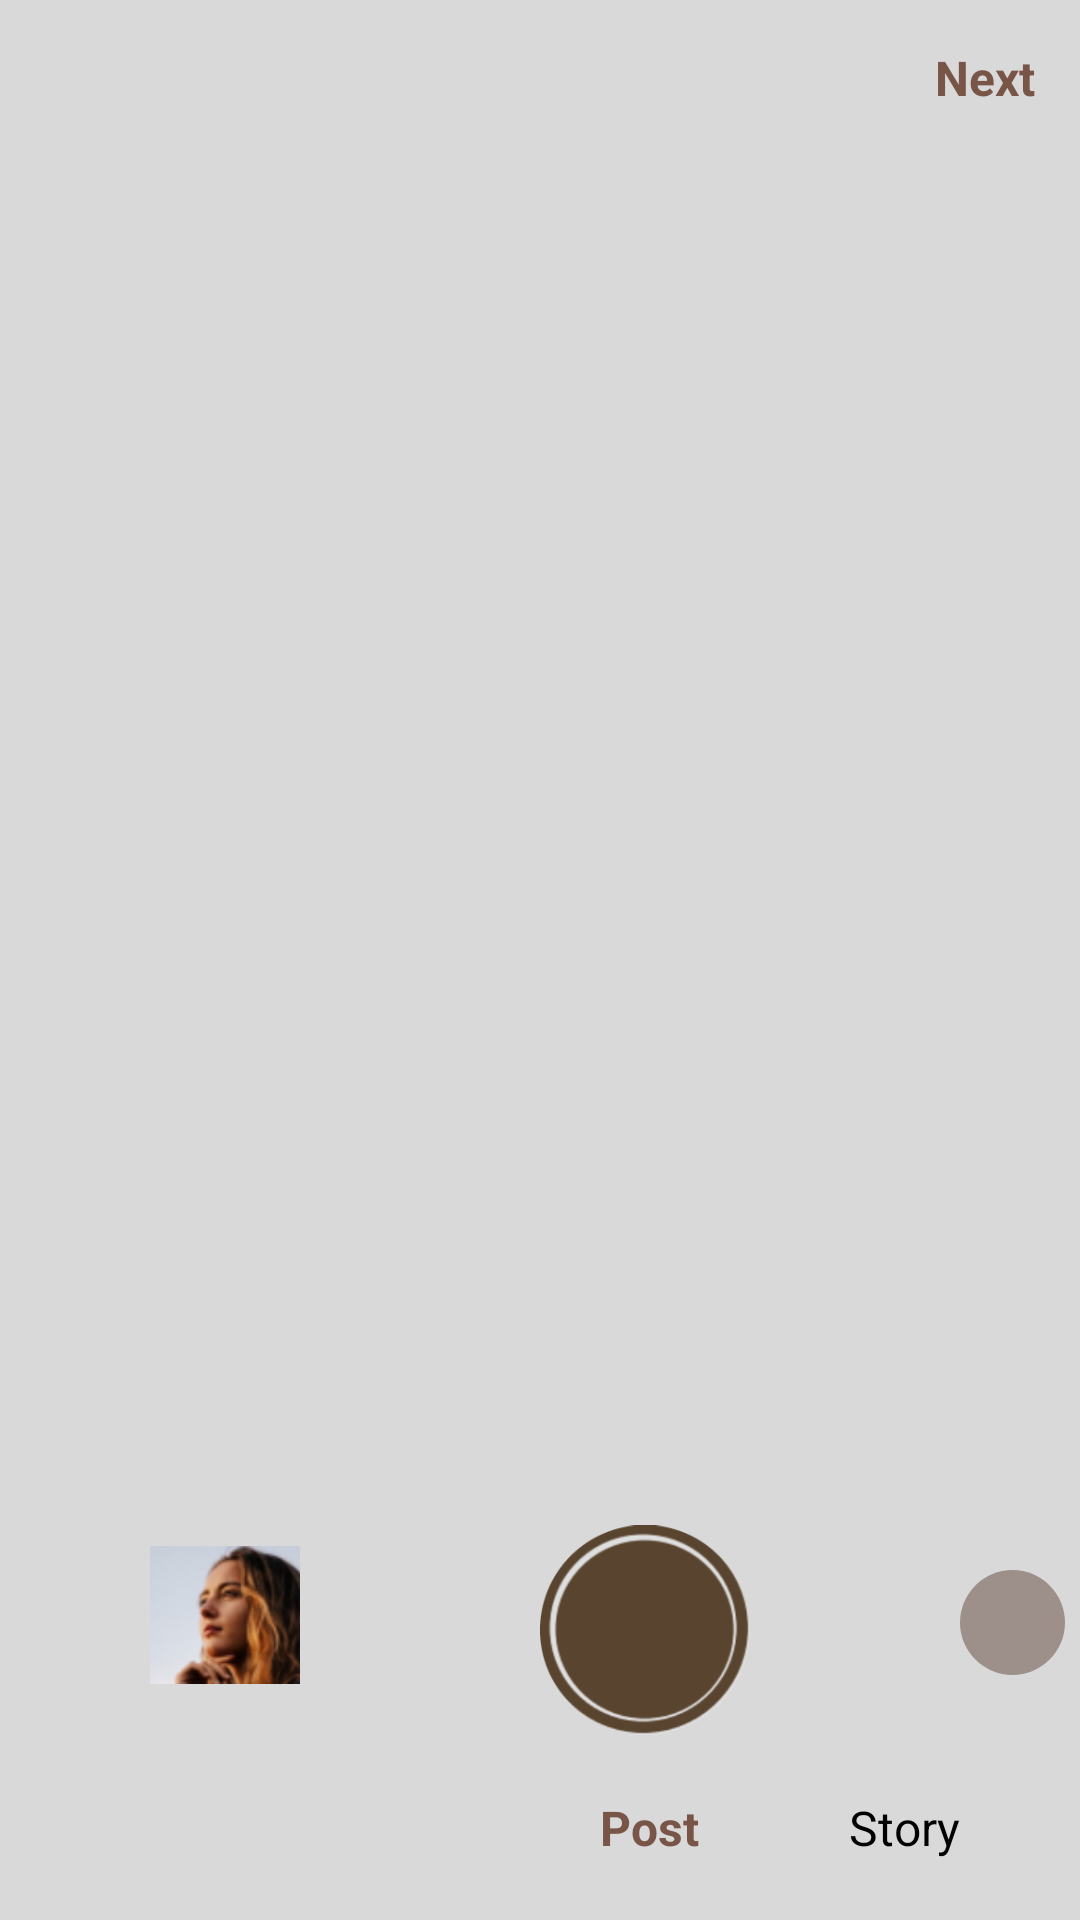

Named icons in this screenshot (1080w x 1920h) and their centers, (x,y):
capture: (644,1629)
